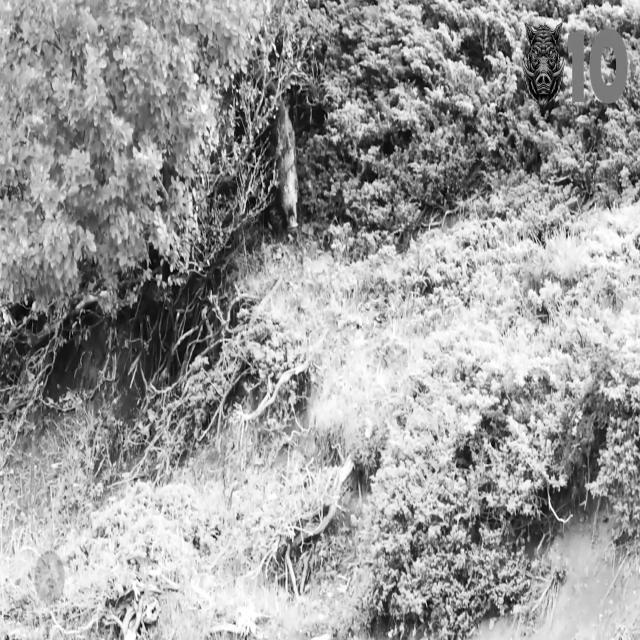boar: (522, 23, 564, 107), (277, 98, 298, 231)
